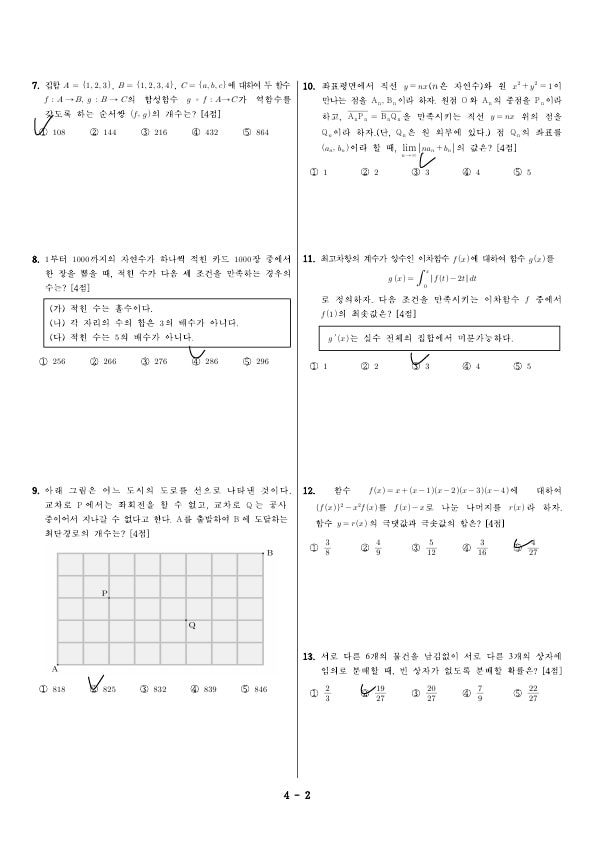question: (21, 480, 293, 708), (295, 246, 572, 389), (23, 250, 295, 377), (296, 76, 571, 186), (295, 480, 573, 569), (23, 71, 297, 154), (296, 643, 570, 712)
